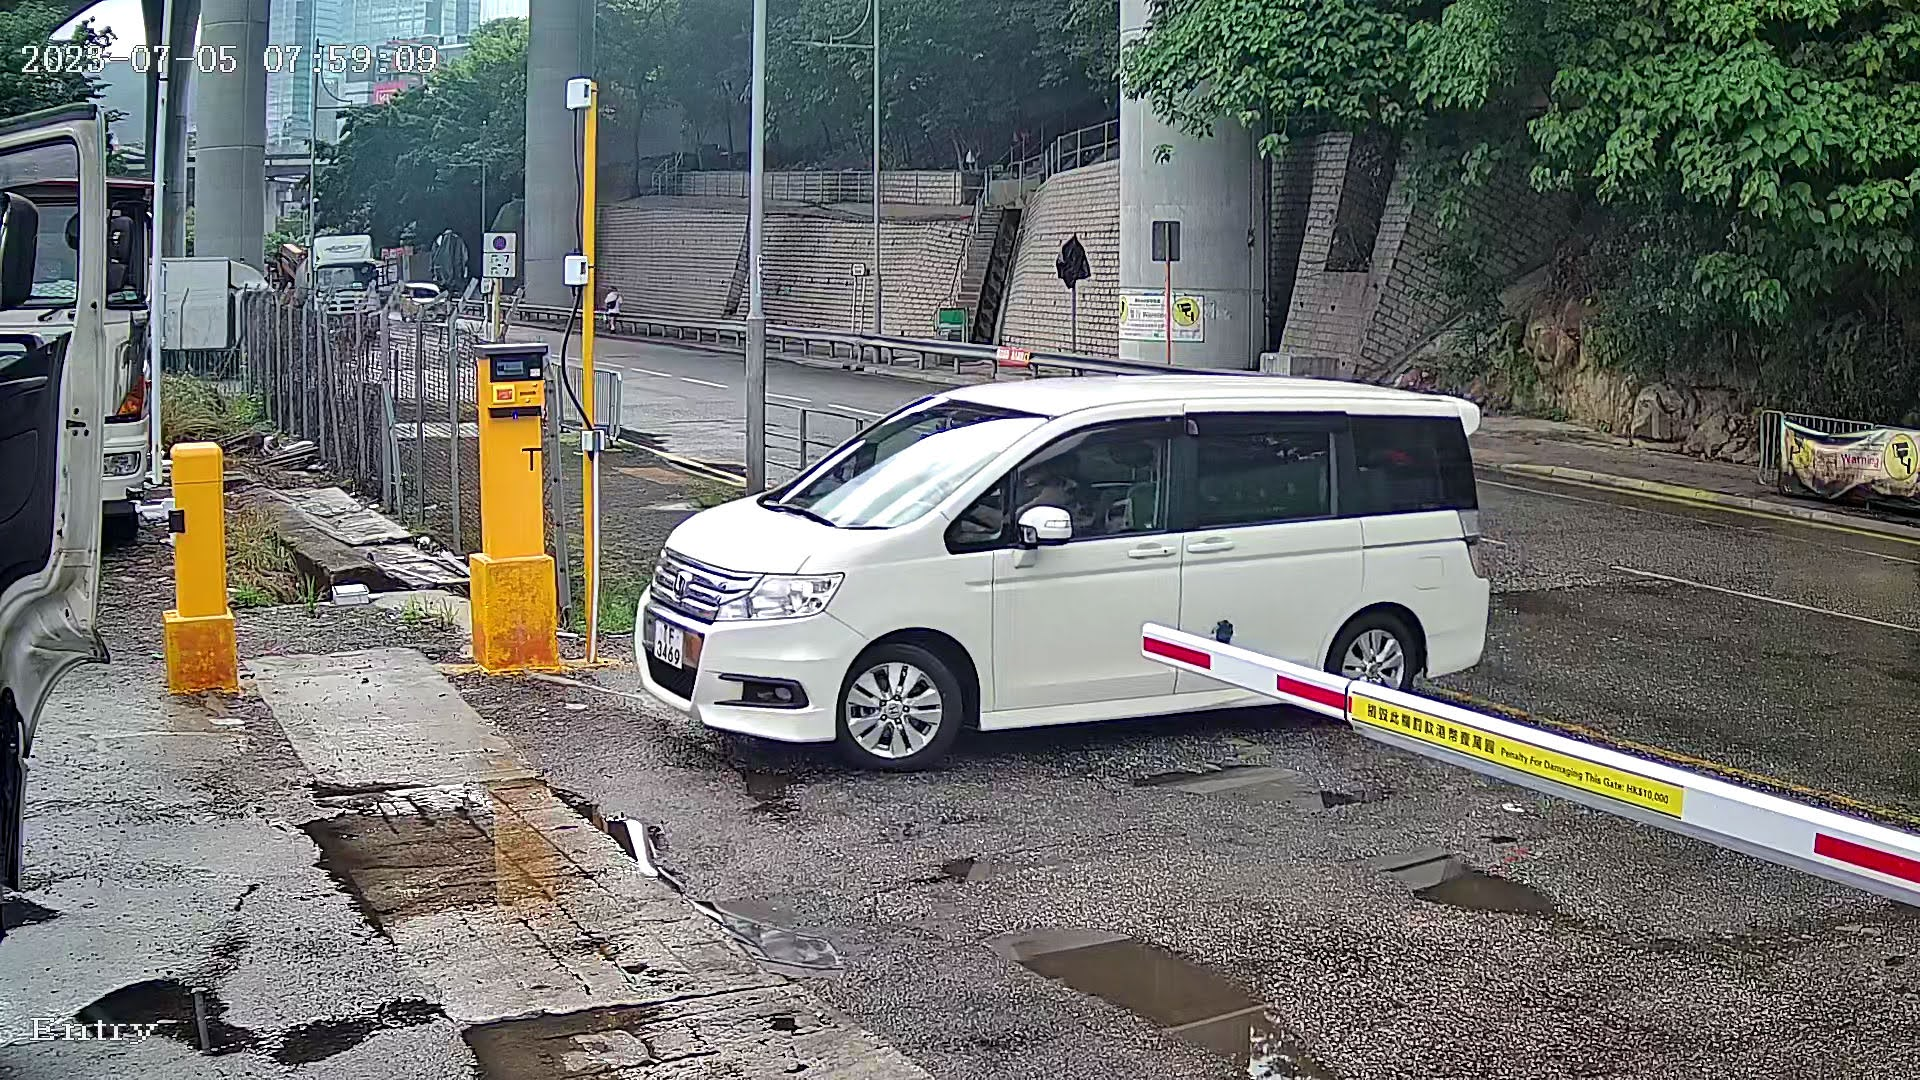privatecar: (596, 307, 1539, 818)
